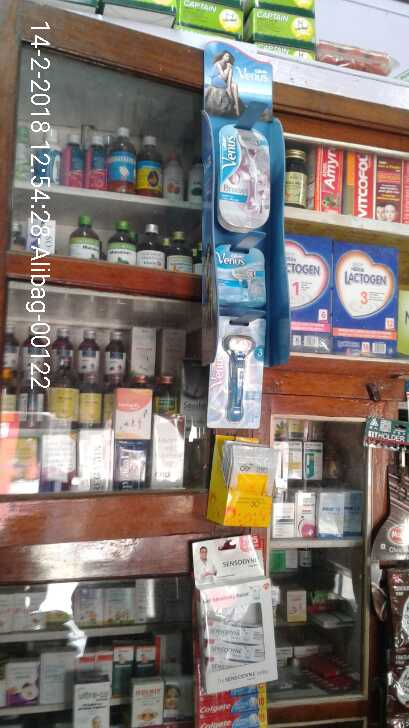beauty: (216, 314, 267, 430), (217, 123, 269, 231), (212, 243, 266, 303)
